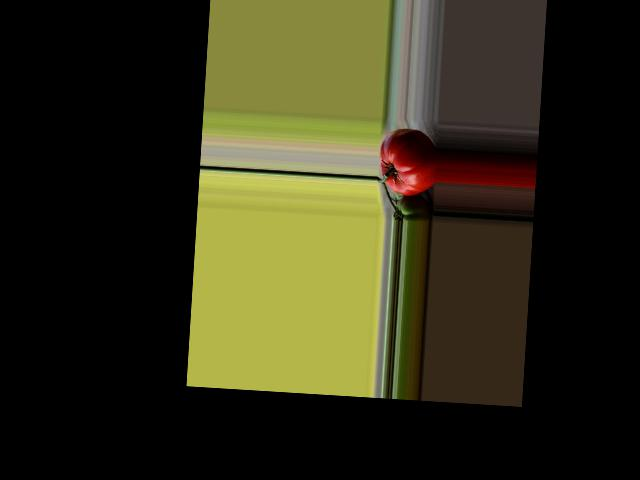tomato: (377, 126, 439, 196)
